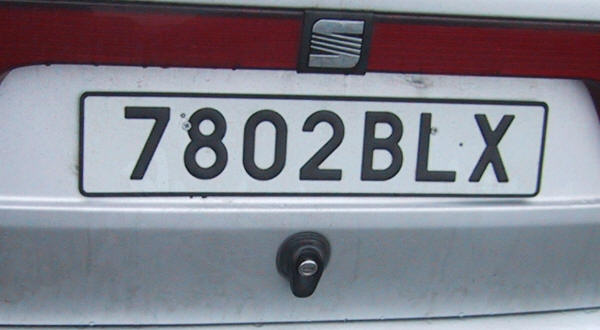license_plate: (77, 88, 550, 199)
